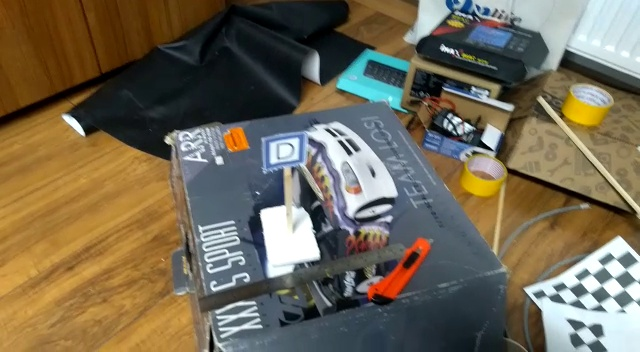durak: (264, 134, 307, 171)
